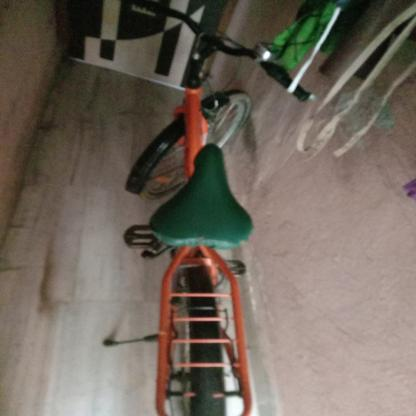bicycle: (54, 0, 337, 416)
